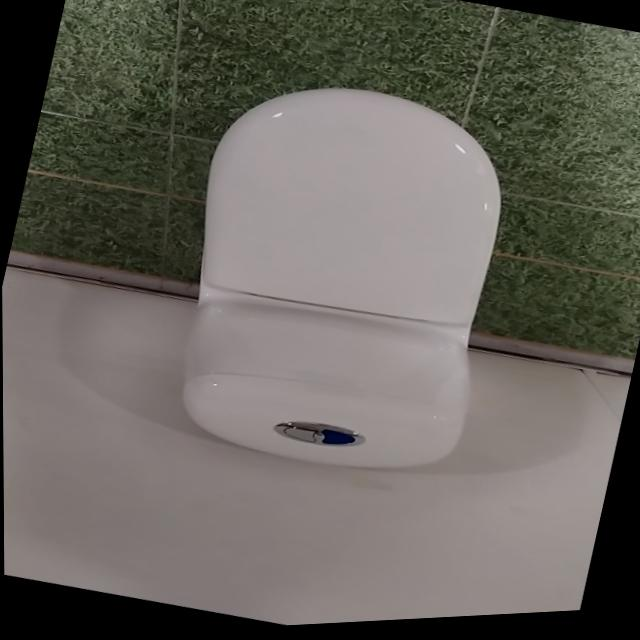toilet: (145, 56, 534, 506)
